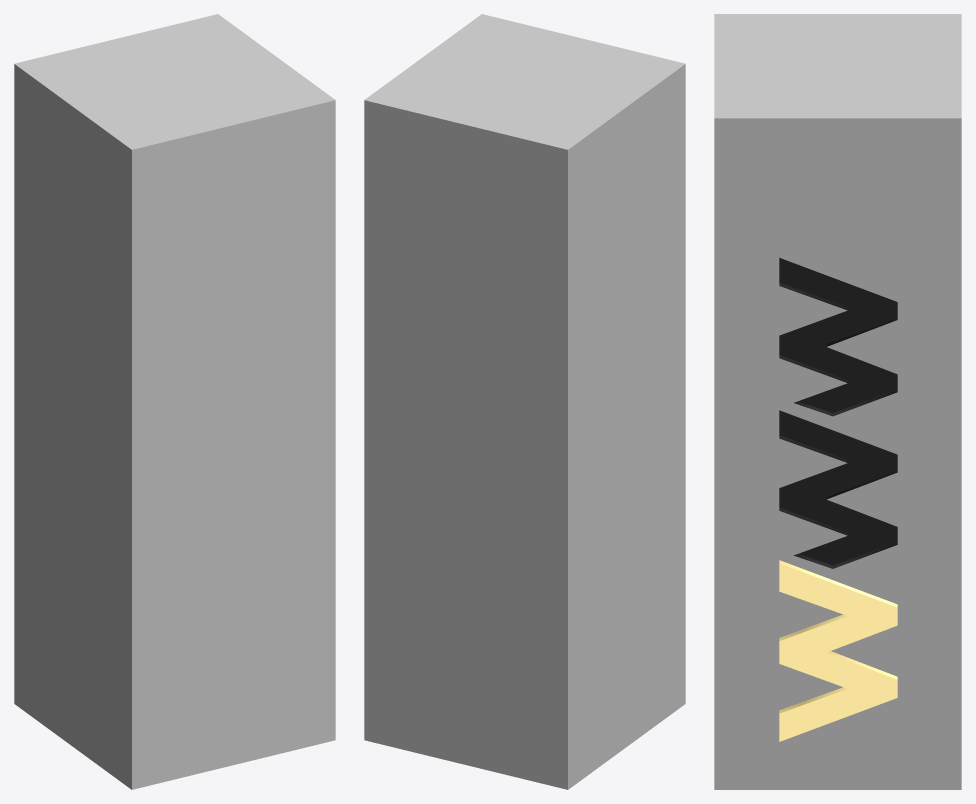
File: Awwward.glb
3 renders of one model, left to right at view 1: azimuth 30°, elevation 25°; view 2: azimuth 150°, elevation 25°; view 3: azimuth 270°, elevation 25°, orthographic. The views are drawn at different scales.
Visible parts, largest first — view 1: awwward; view 2: awwward; view 3: awwward.
Part boxes in pixels (x1,y1,x2,y2): awwward: (14,14,335,789); awwward: (364,14,685,789); awwward: (714,14,961,789).
Size of the model in its own units: 2.06 by 6 by 2.
